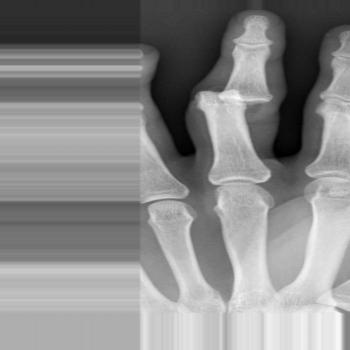Fracture: (192, 82, 260, 113)
